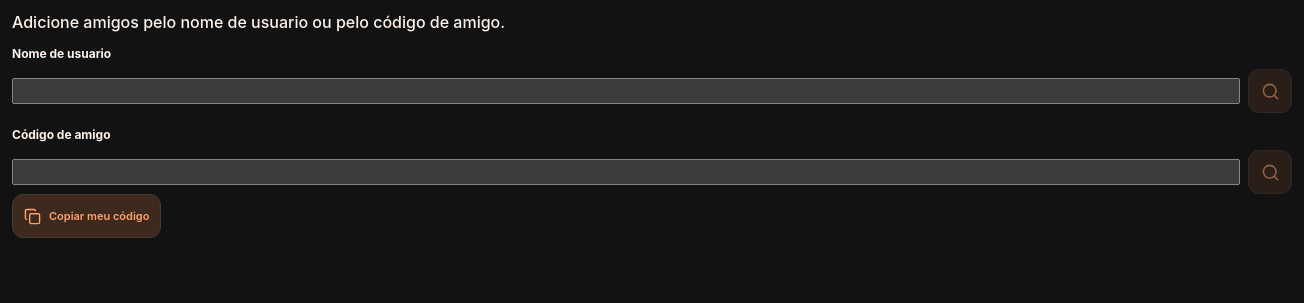
Test: mantém o código acessível para cópia manual quando a área de transferência é negada
Click the button "Copiar meu código": (87, 216) [12, 194, 161, 238]
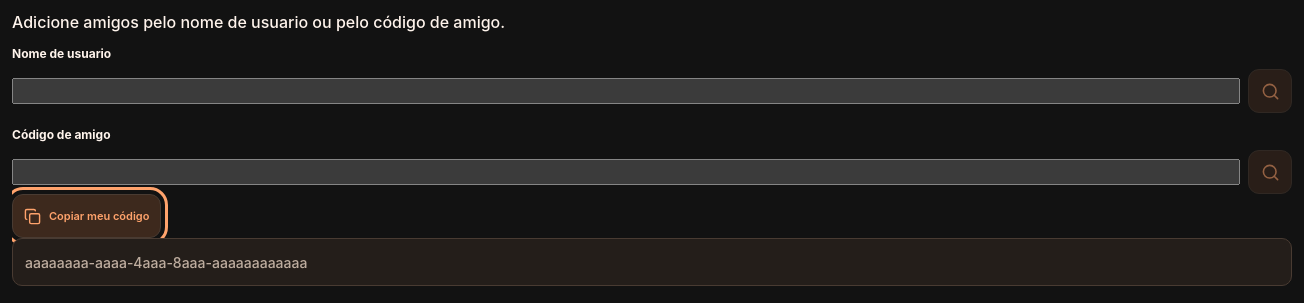
Now the field named "Seu código de amigo" holds "aaaaaaaa-aaaa-4aaa-8aaa-aaaaaaaaaaaa", box [12, 238, 1292, 286]
